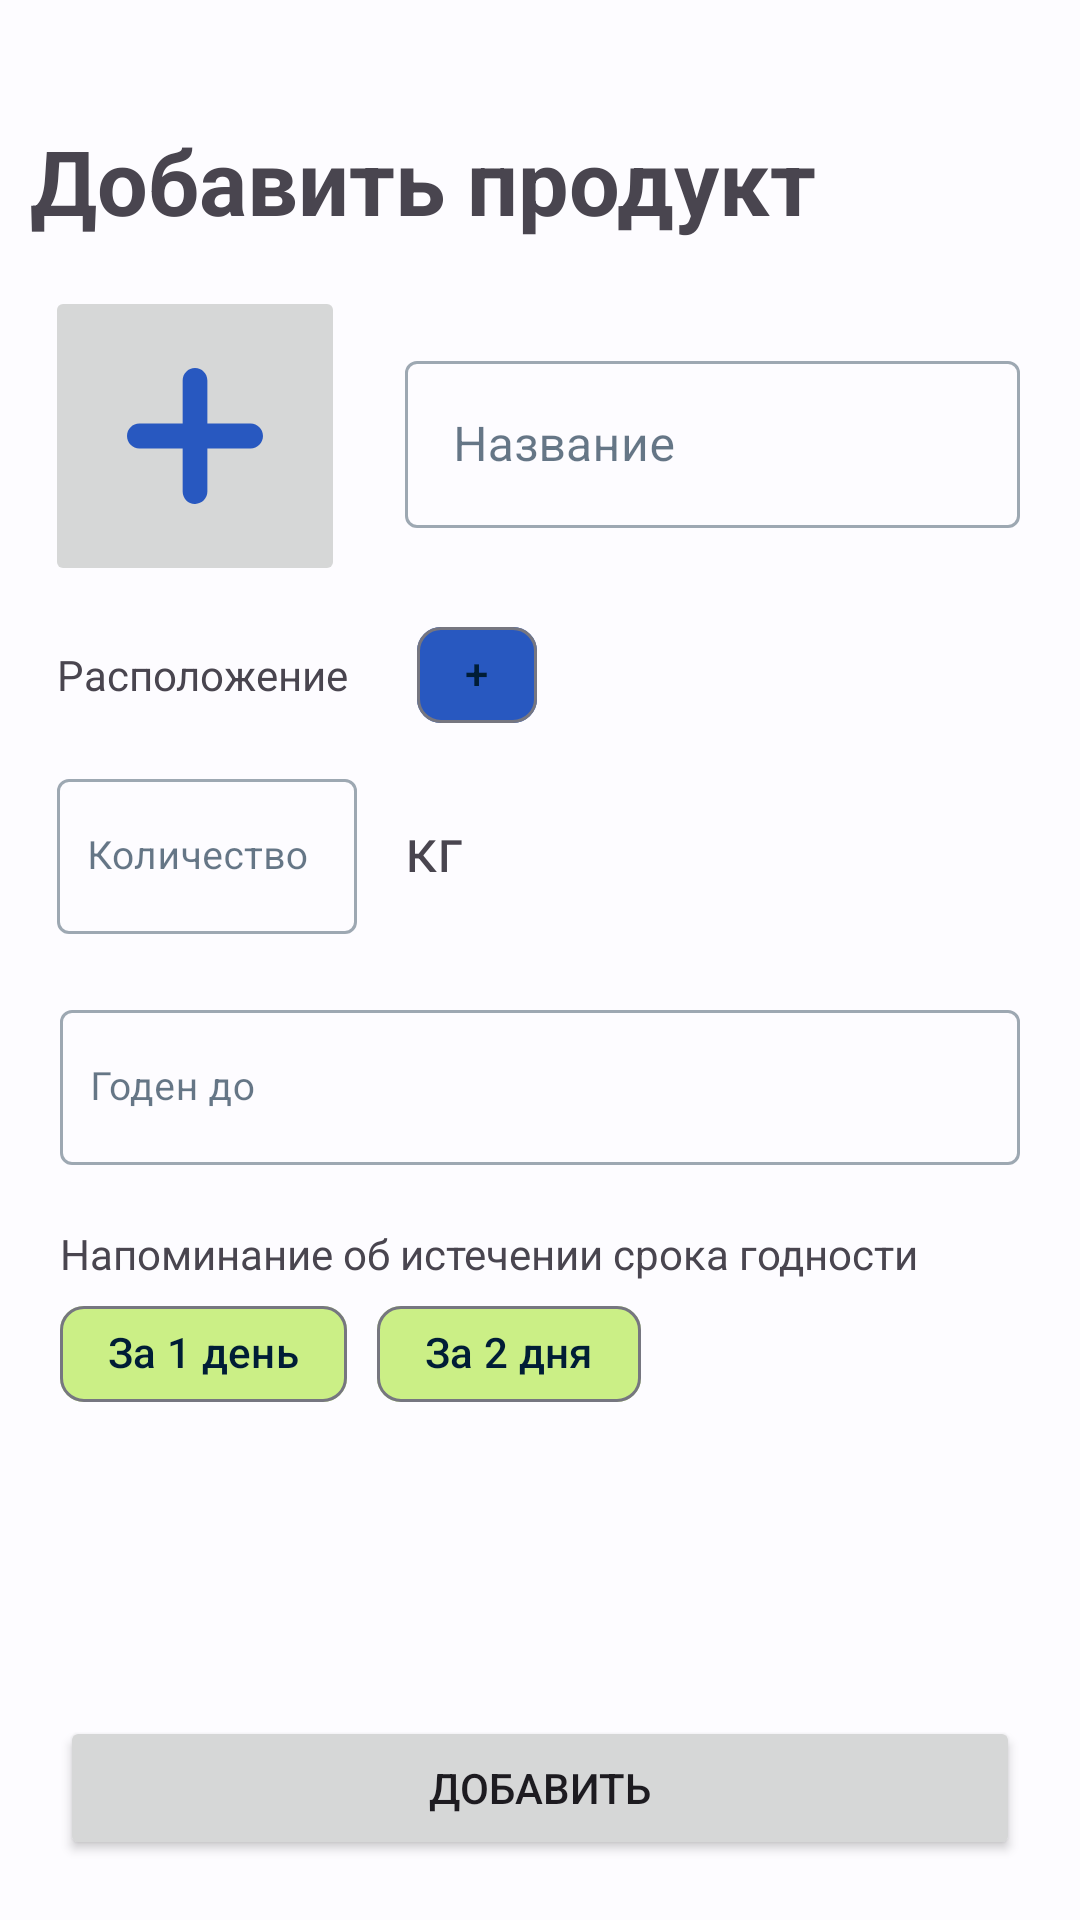

Screen size 1080×1920. Icon name, then its box in pixels as [x1,y1,x2,y2]:
plus: [57,304,333,568]
